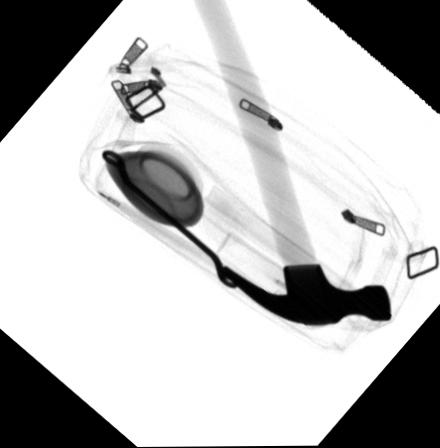Hammer: (186, 0, 394, 327)
Wrench: (100, 149, 239, 290)
